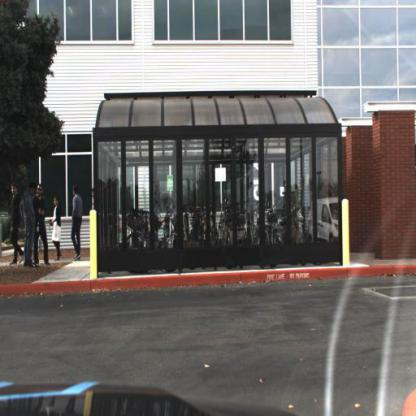pedestrian: (69, 185, 87, 264), (71, 186, 87, 261), (34, 182, 48, 267), (35, 185, 49, 269), (9, 178, 21, 267), (49, 197, 64, 265), (22, 179, 33, 271)
